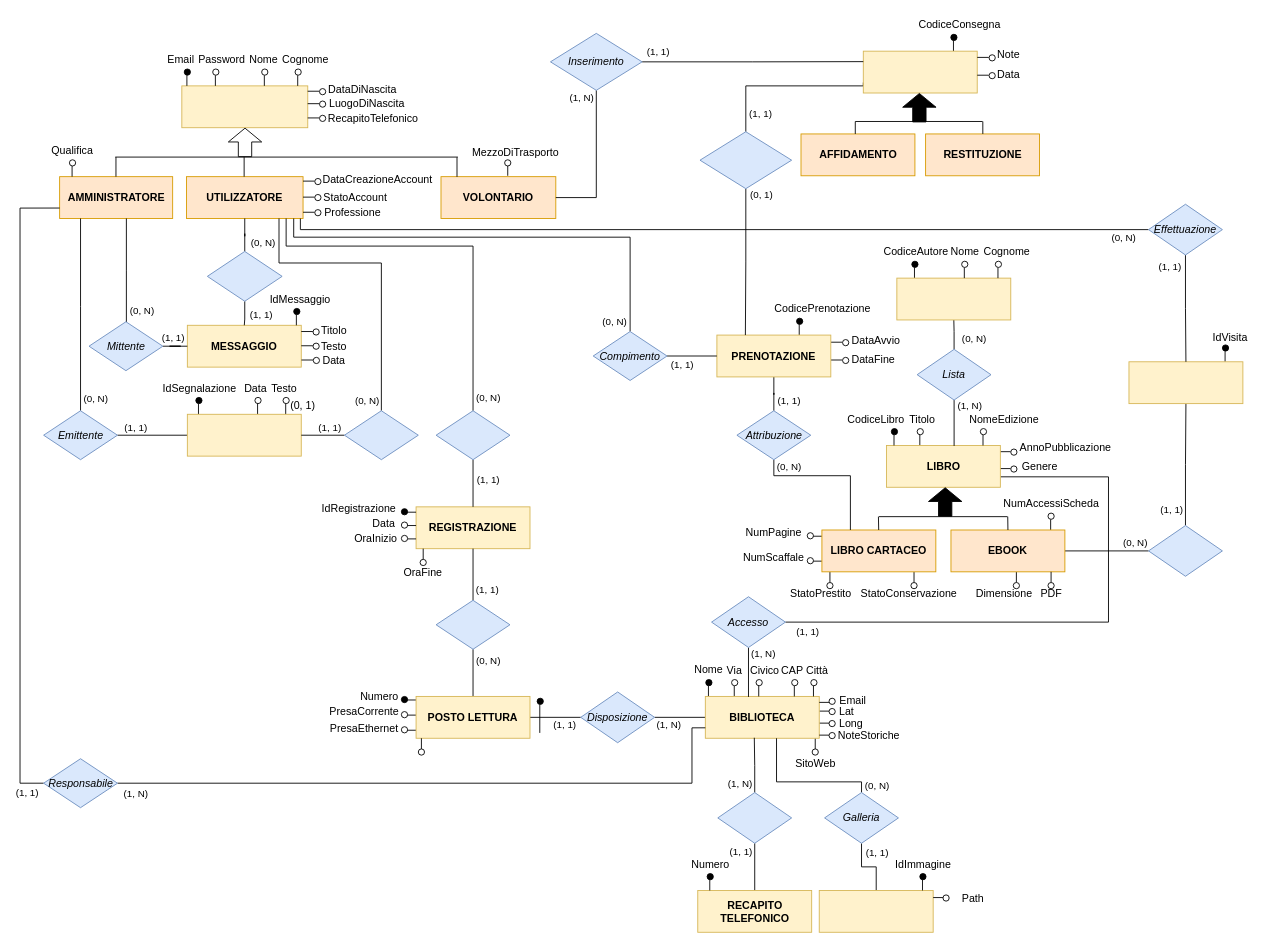
Image size: 1264x948. Some labels were removed from this diagram. The shapes that lost their labels are listed below. From the top down, each one's centre as x and y in pixels, then its label:
point 919,71: CONSEGNA
point 244,106: UTENTE
point 745,160: Assegnamento
point 244,276: Destinatario
point 953,298: AUTORE
point 1185,382: VISITA
point 243,434: SEGNALAZIONE
point 381,435: Ricevente
point 472,435: Esecuzione
point 1185,550: Ricezione
point 472,624: Riferimento
point 754,817: Dotazione
point 875,911: IMMAGINE
